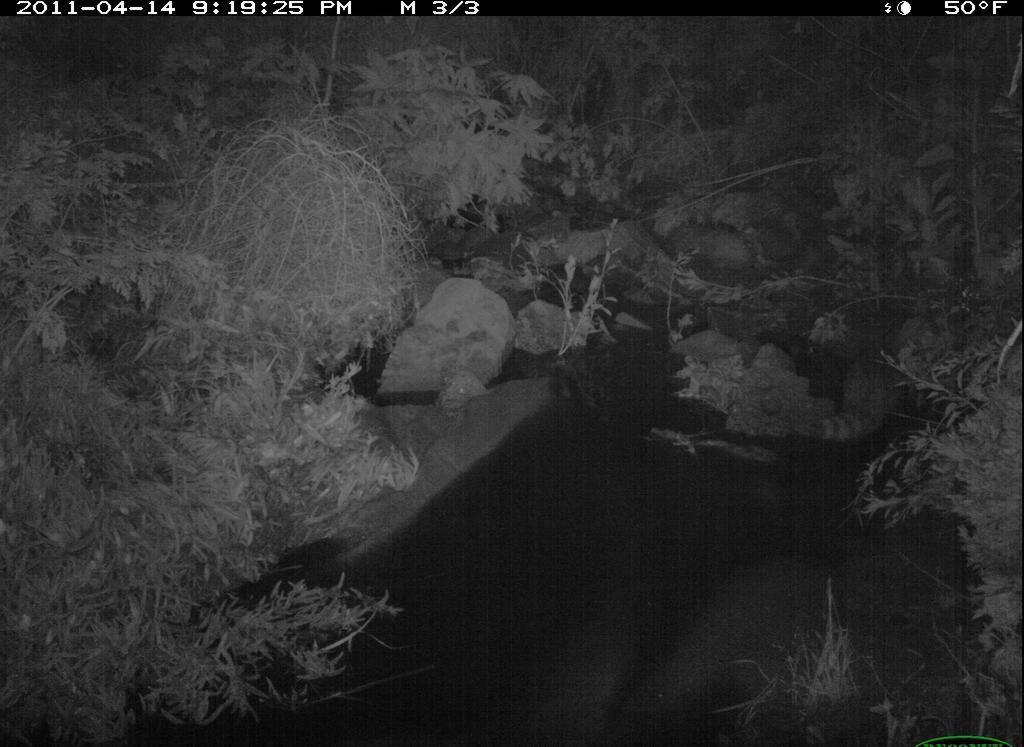raccoon: (802, 305, 951, 443)
